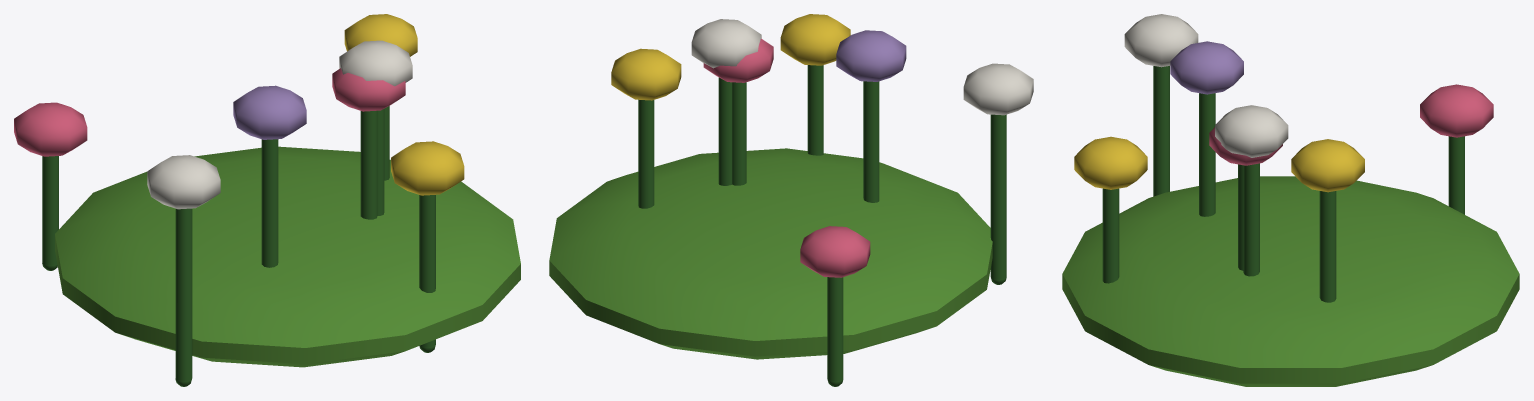
The model's file is flowers.fbx.
3 views of the same model, side by side, from view 1: azimuth 30°, elevation 25°; view 2: azimuth 150°, elevation 25°; view 3: azimuth 270°, elevation 25° (orthographic). The views are drawn at different scales.
Parts seen in each view (by area): view 1: flowers; view 2: flowers; view 3: flowers.
Boxes of the visible parts, bbox=[...] form: flowers: bbox=[14, 14, 520, 386]; flowers: bbox=[549, 14, 1033, 386]; flowers: bbox=[1062, 14, 1519, 386].
Size of the model in its own units: 0.8158 by 0.5008 by 0.8272.
